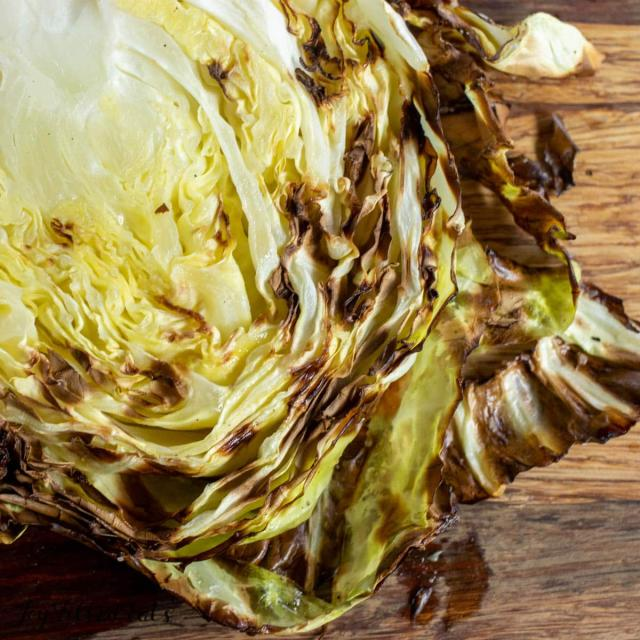rotten cabbage: (50, 42, 549, 602)
